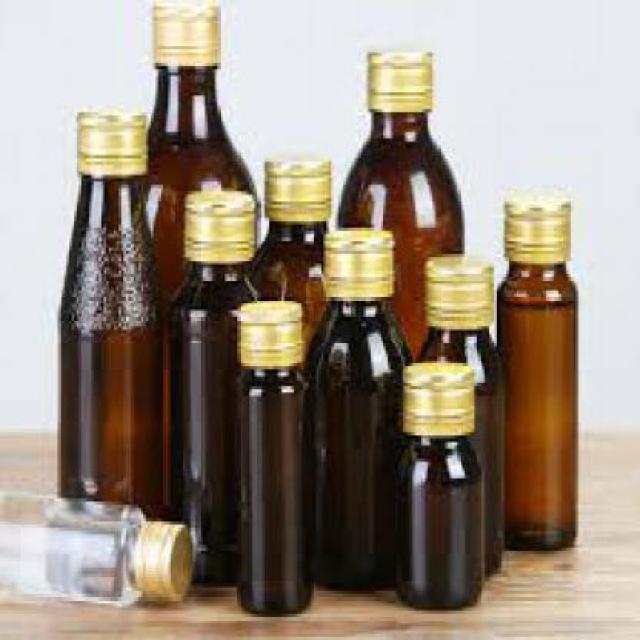kaca: (58, 175, 171, 511), (335, 109, 460, 363), (166, 260, 260, 588), (304, 297, 410, 585), (146, 66, 262, 314), (497, 260, 575, 545), (416, 328, 498, 578), (232, 363, 310, 611), (0, 492, 138, 607), (394, 435, 483, 603), (248, 218, 330, 360)
